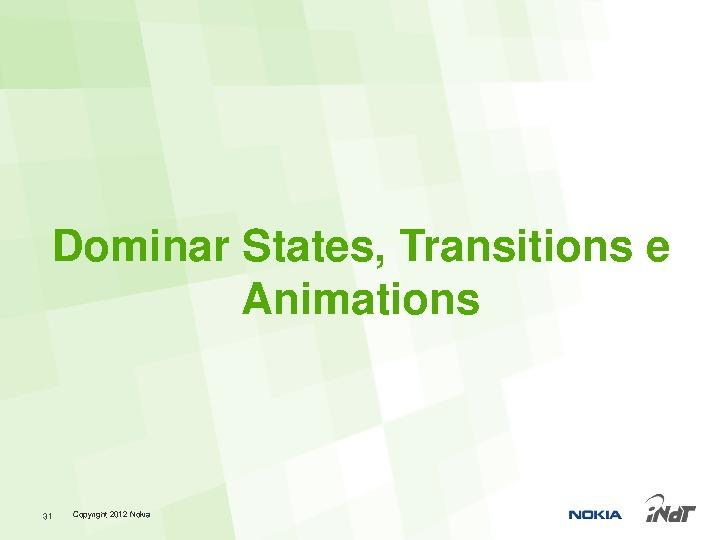subtitle: (31, 484, 713, 531)
title: (43, 219, 681, 334)
